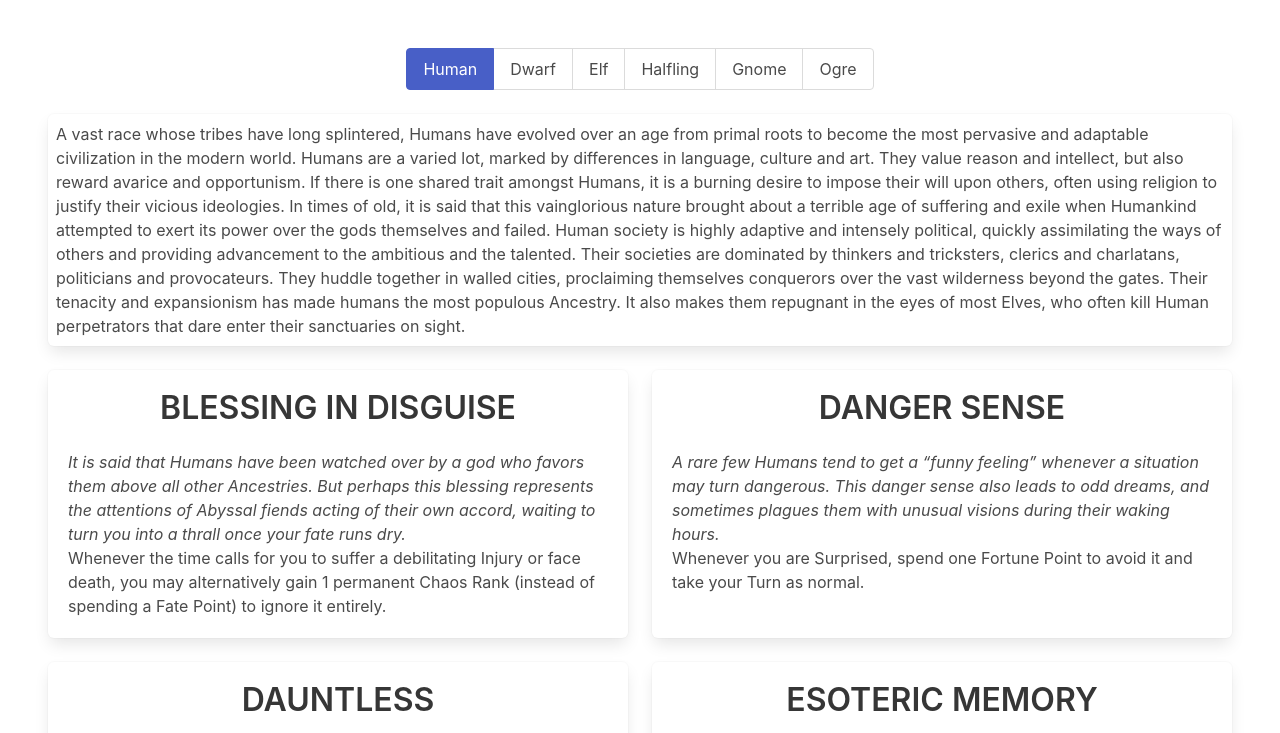
Test case: Ancestries Screen › should show selected ancestry when clicked
Click the link "Dwarf": (533, 69) x1=493 y1=48 x2=573 y2=90
(page scrolled)
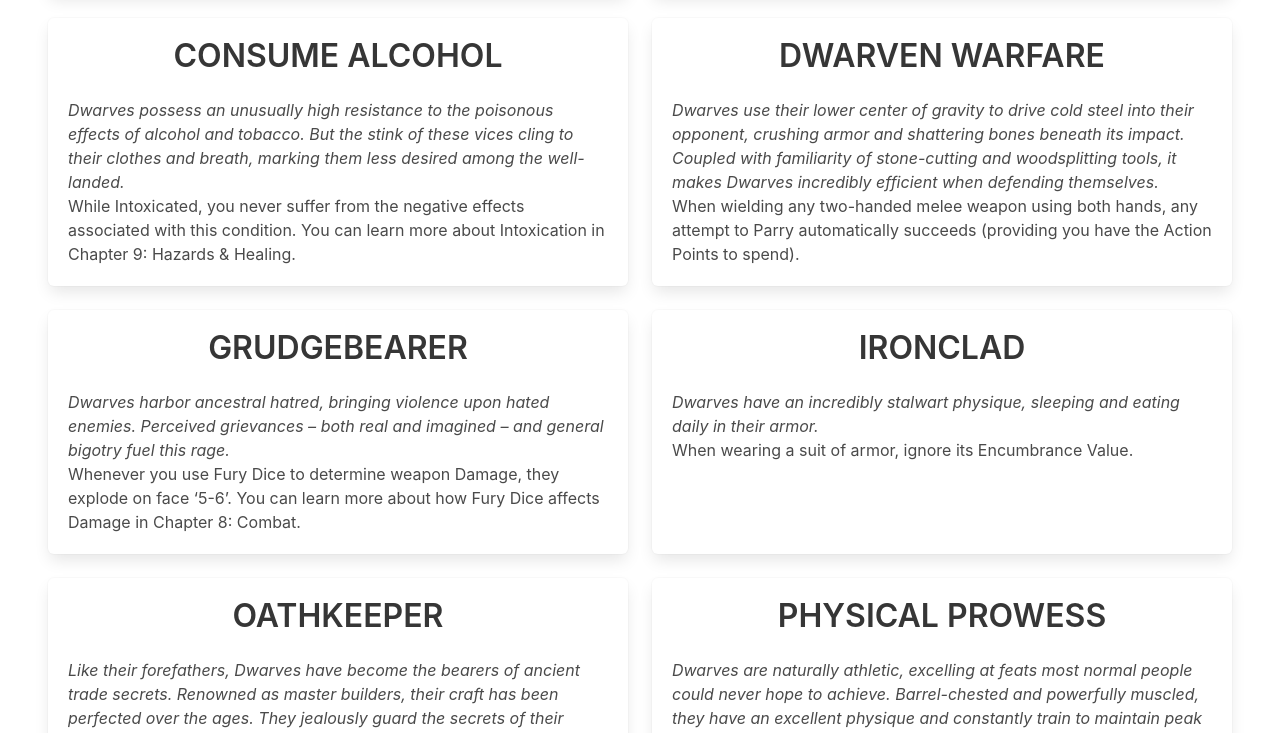
Now the text "When wearing a suit of armor, ignore its Encumbrance Value." is shown, box x1=672 y1=438 x2=1212 y2=462
